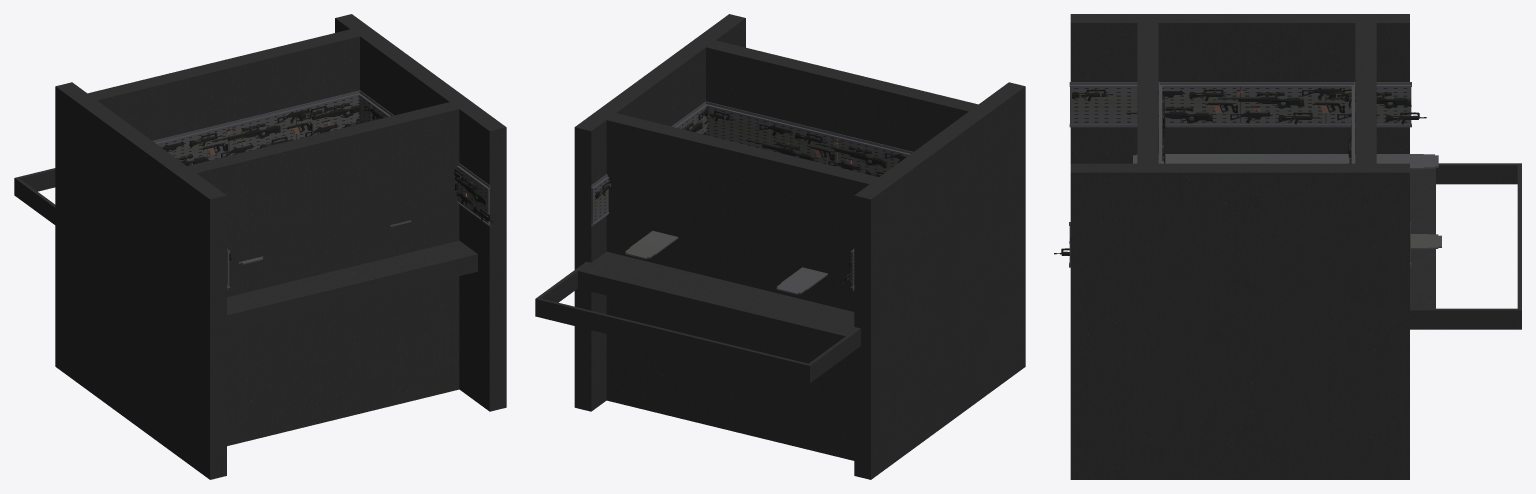
File: armurerie.glb
3 renders of one model, left to right at view 1: azimuth 30°, elevation 25°; view 2: azimuth 150°, elevation 25°; view 3: azimuth 270°, elevation 25°, orthographic. The views are drawn at different scales.
Visible parts, largest first — view 1: Center__4_, Center__3_, Center__2_, Center__1_, Center, prop_4__2_, prop_4__1_, prop_4__3_, prop_4__3__2, Border_3, Border; view 2: Center__1_, Center__3_, Center__4_, Center__2_, Center, Border, prop_4_1, prop_4__1__1, prop_4__2__1, Border_3, prop_3_3, prop_3 (+2 smaller); view 3: Center__2_, Center__3_, Center, Center__4_, Center__1_, prop_4__2__3, prop_4_3, prop_3, prop_4__1__3, Border_2, prop_4__3__3, Border_3 (+2 smaller).
Part boxes in pixels (x1,y1,x2,y2): Center__4_: [184, 101, 460, 445]; Center__3_: [55, 82, 226, 479]; Center__2_: [335, 14, 506, 411]; Center__1_: [88, 29, 359, 140]; Center: [227, 240, 477, 332]; prop_4__2_: [228, 106, 296, 155]; prop_4__1_: [160, 122, 229, 165]; prop_4__3_: [296, 90, 359, 139]; prop_4__3__2: [456, 163, 490, 226]; Border_3: [16, 178, 55, 224]; Border: [14, 168, 55, 196]; Center__1_: [606, 113, 881, 460]; Center__3_: [854, 82, 1025, 479]; Center__4_: [705, 40, 981, 151]; Center__2_: [574, 14, 745, 411]; Center: [578, 251, 857, 349]; Border: [535, 297, 811, 383]; prop_4_1: [705, 101, 770, 150]; prop_4__1__1: [769, 117, 837, 166]; prop_4__2__1: [836, 133, 905, 175]; Border_3: [809, 328, 860, 381]; prop_3_3: [625, 230, 678, 259]; prop_3: [776, 267, 827, 294]; Center__2_: [1070, 163, 1409, 479]; Center__3_: [1070, 14, 1409, 163]; Center: [1410, 168, 1435, 308]; Center__4_: [1137, 21, 1158, 164]; Center__1_: [1355, 23, 1376, 164]; prop_4__2__3: [1240, 82, 1326, 127]; prop_4_3: [1069, 82, 1137, 127]; prop_3: [1133, 154, 1438, 169]; prop_4__1__3: [1158, 82, 1240, 127]; Border_2: [1410, 308, 1517, 329]; prop_4__3__3: [1326, 82, 1411, 127]; Border_3: [1436, 163, 1517, 184].
Bounding box in the file's own units: 885 × 800 × 1104.
16 materials, 16 textured.
